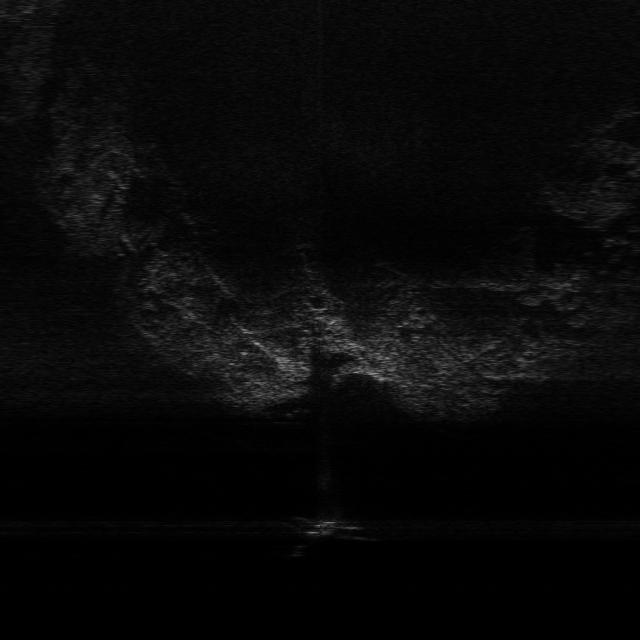plane: (283, 512, 381, 543)
